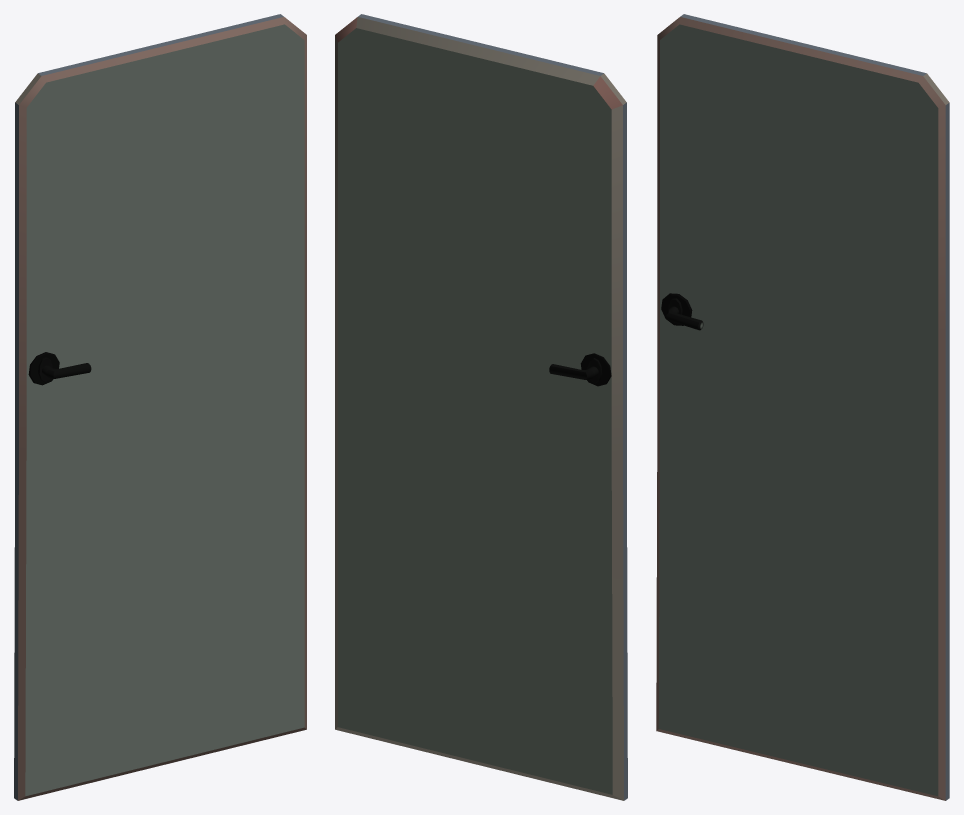
The model's file is drzwi.fbx.
The picture shows the model from 3 angles, left to right: view 1: azimuth 30°, elevation 25°; view 2: azimuth 150°, elevation 25°; view 3: azimuth 330°, elevation 25°; orthographic projection.
Parts seen in each view (by area): view 1: woz_kempingowy; view 2: woz_kempingowy; view 3: woz_kempingowy.
Part boxes in pixels (x1=…): woz_kempingowy: x1=14, y1=14, x2=306, y2=800; woz_kempingowy: x1=335, y1=14, x2=627, y2=800; woz_kempingowy: x1=656, y1=14, x2=949, y2=800.
Size of the model in its own units: 91.15 by 217 by 19.96.
